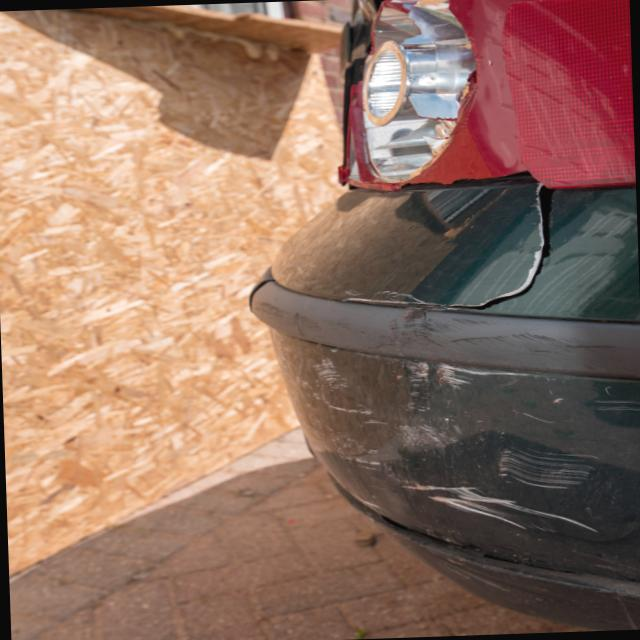Rayure: (281, 351, 638, 591)
